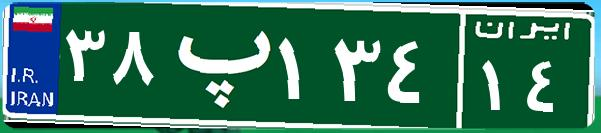1: (273, 28, 330, 110), (475, 38, 525, 113)
3: (330, 28, 385, 110), (57, 26, 110, 107)
4: (385, 28, 445, 110), (525, 38, 570, 115)
8: (110, 28, 158, 105)
پ: (158, 15, 273, 115)
